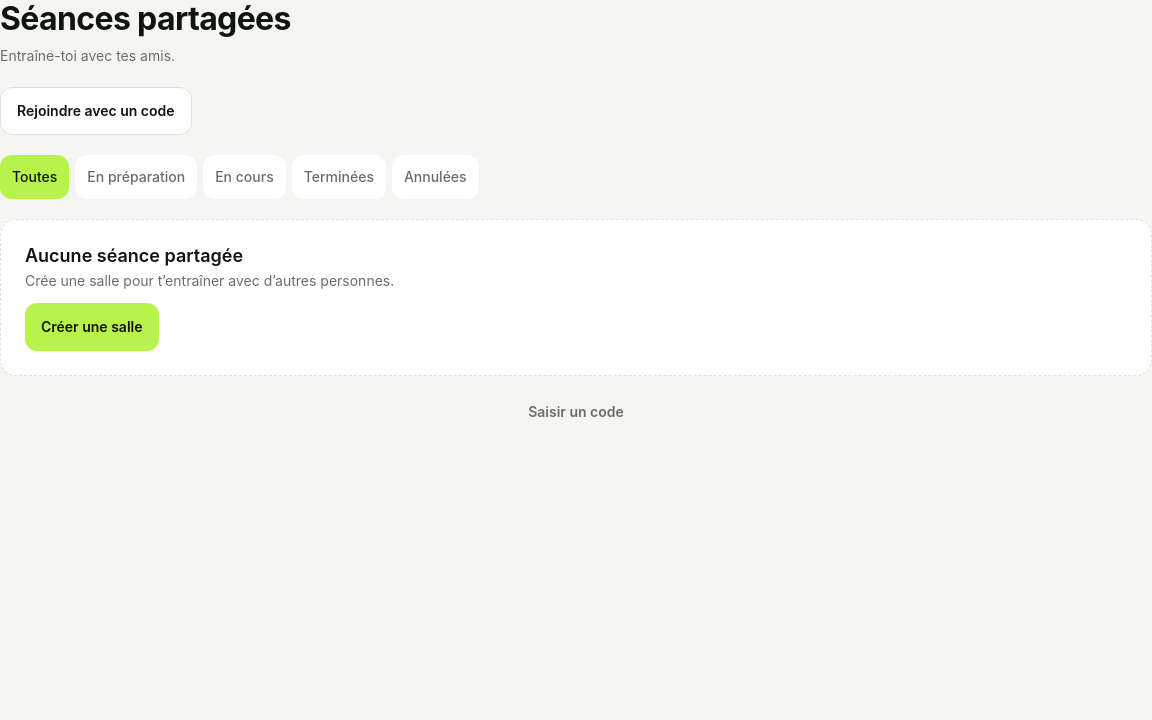
Test case: SharedWorkoutsPage › formate le code pendant la saisie
The width and height of the screenshot is (1152, 720).
Click the button "Rejoindre avec un code" at (96, 111), box [0,87,192,135]
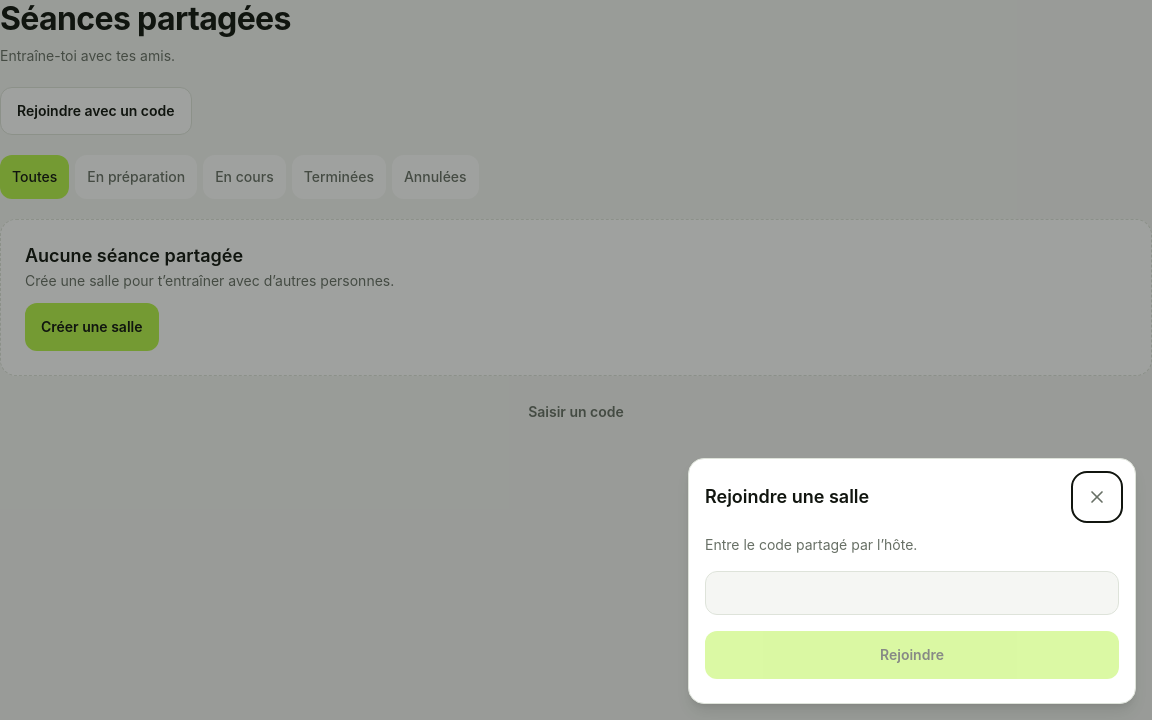
Type "k7m4p" into the field named "code d’accès" at (912, 593), box [705,571,1119,615]
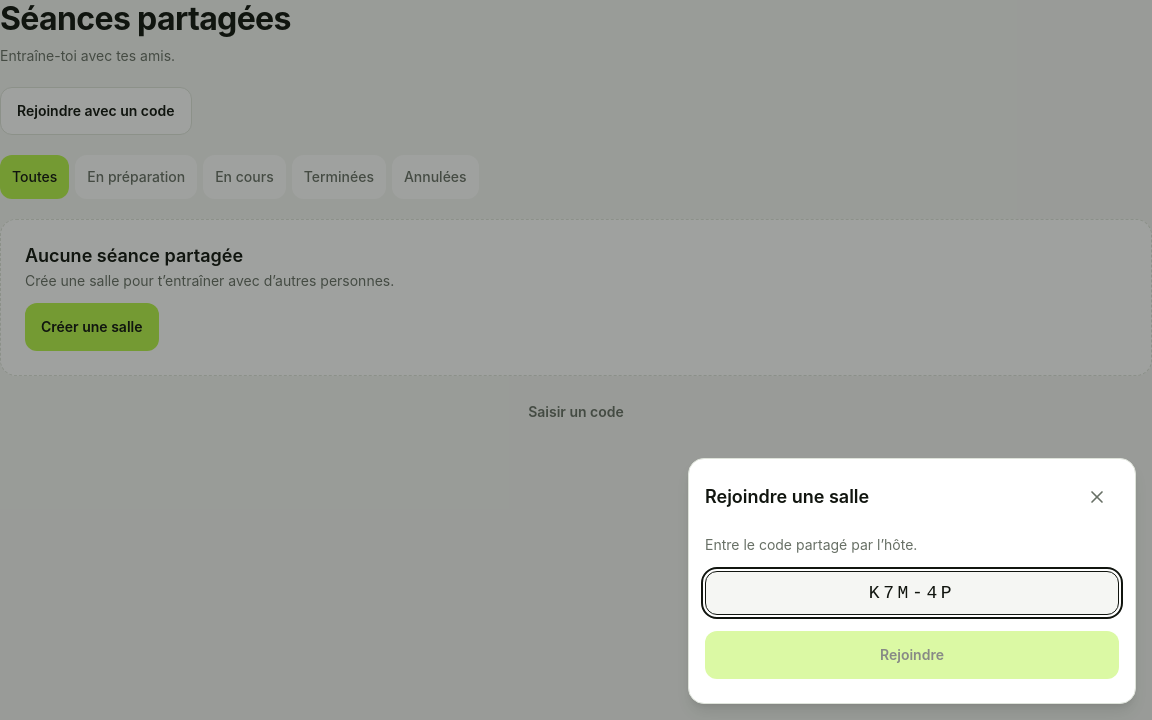
Expected: the field named "code d’accès" holds "K7M-4P", [705,571,1119,615]
